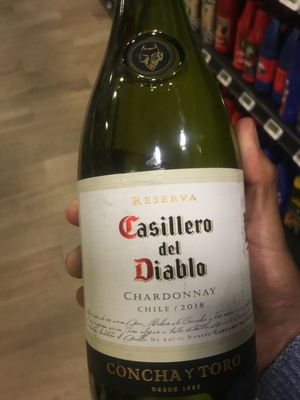casillero del diablo chardonnay: (73, 7, 267, 395)
